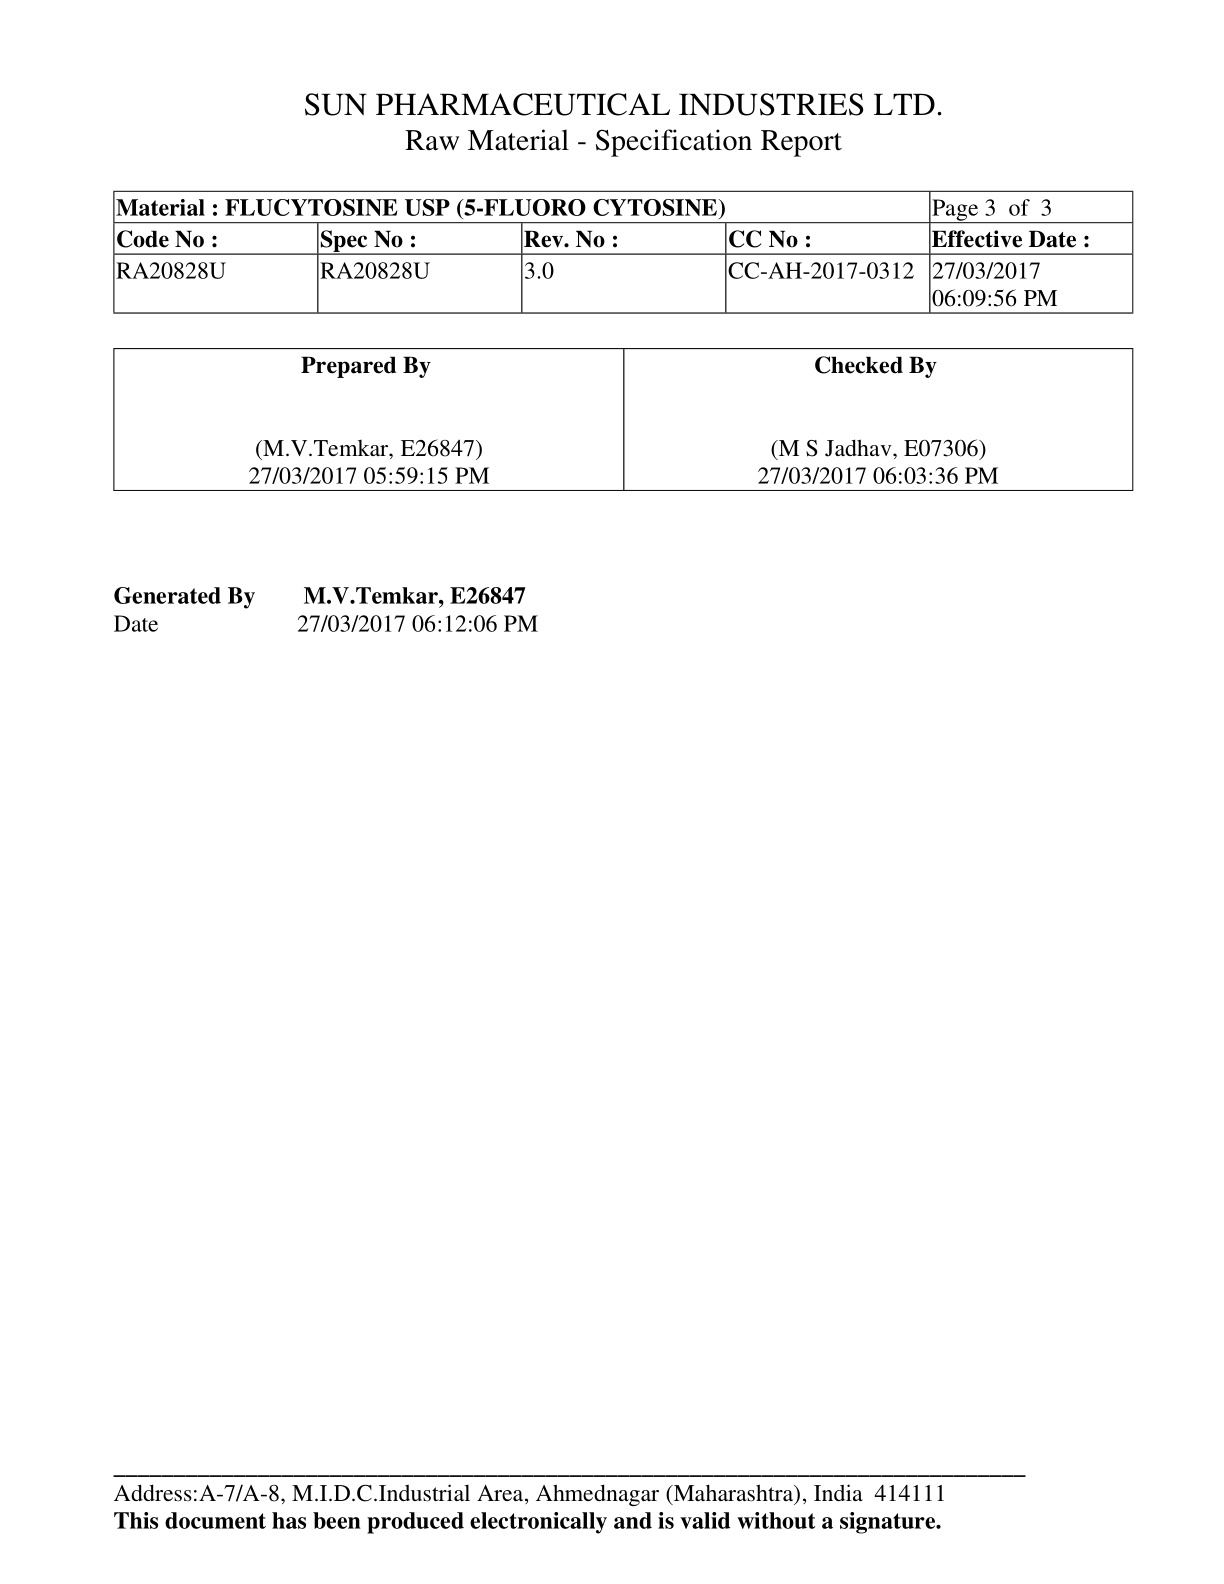full_lined: (112, 348, 1134, 492)
merged_cells: (113, 190, 1134, 314)
